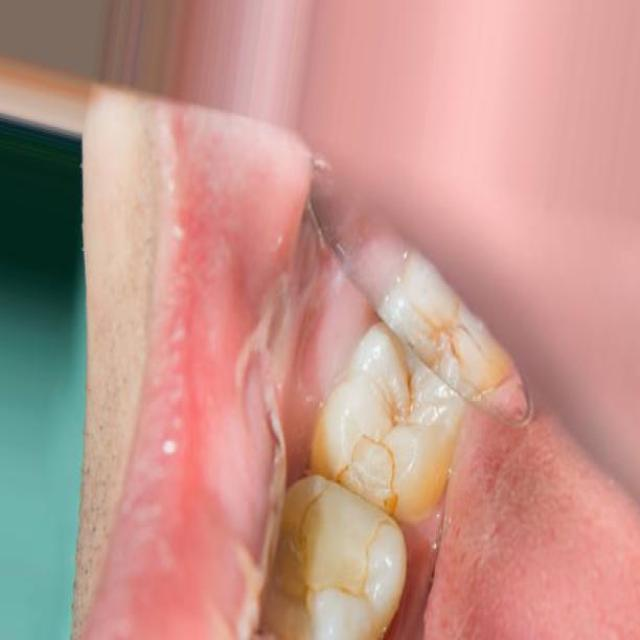caries: (266, 410, 406, 606)
